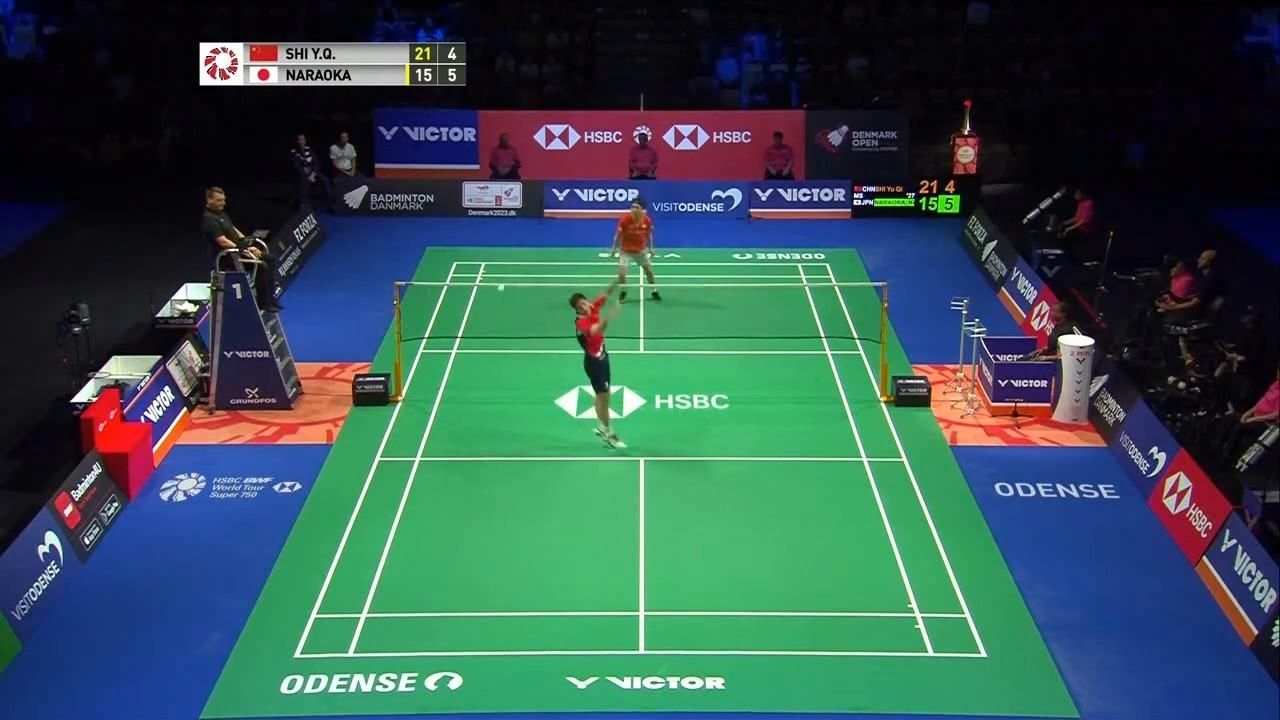shuttle: (495, 282, 504, 292)
